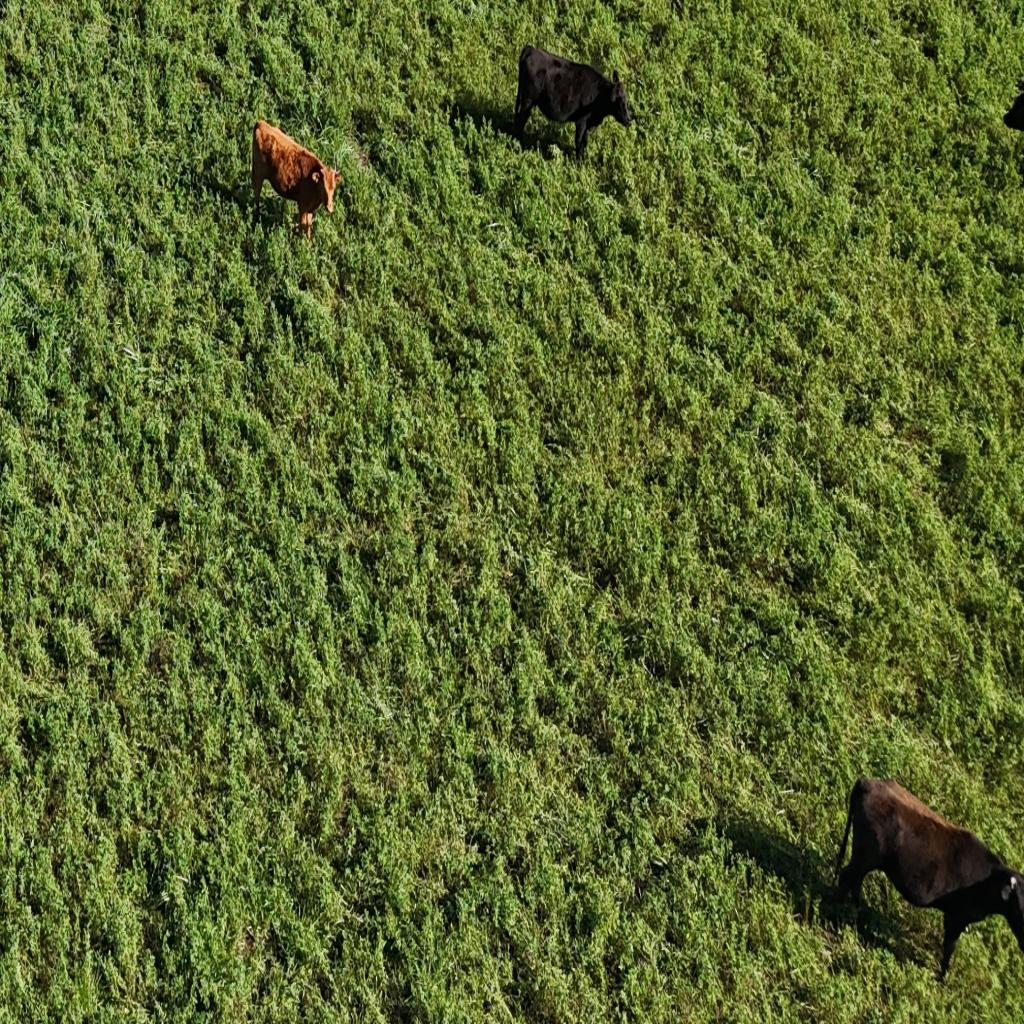cow: (825, 774, 1021, 981), (510, 39, 636, 165), (250, 114, 348, 246)
